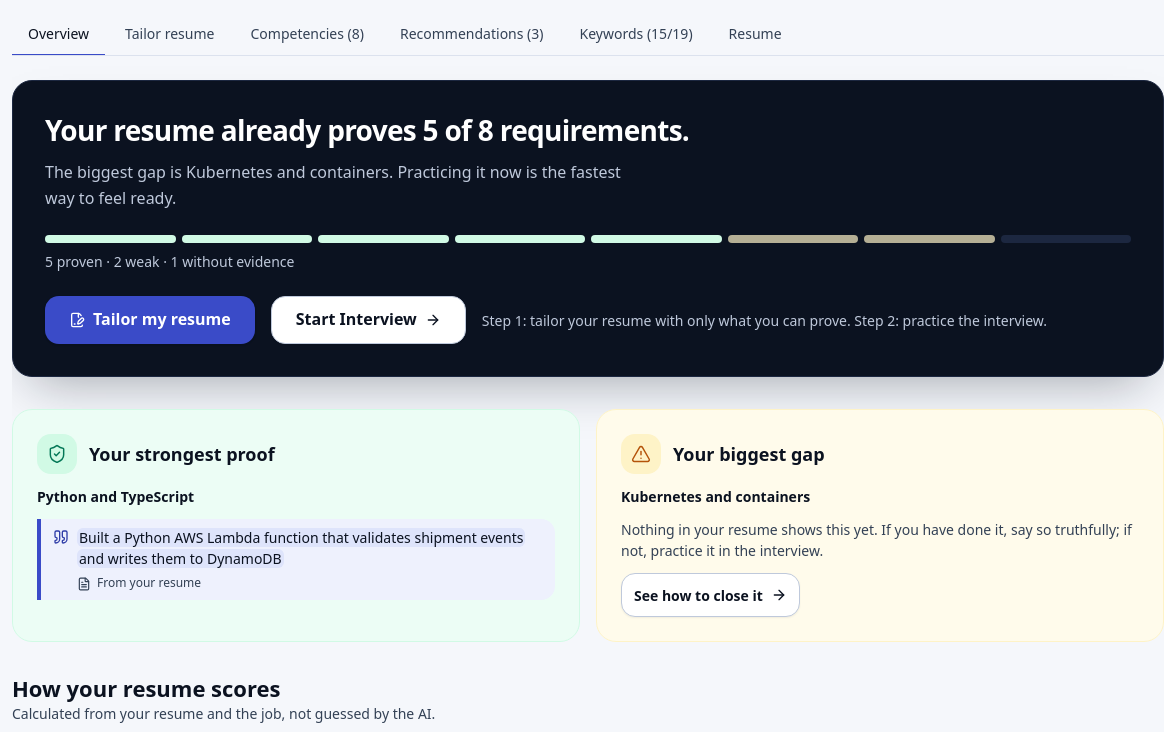
Scenario: Tailor resume tab (design §7.6) › is step 1 on the overview and opens the Tailor tab
This screenshot has width=1164, height=732.
Click the button "Tailor my resume". click: {"x": 150, "y": 320}
box: [45, 296, 255, 344]
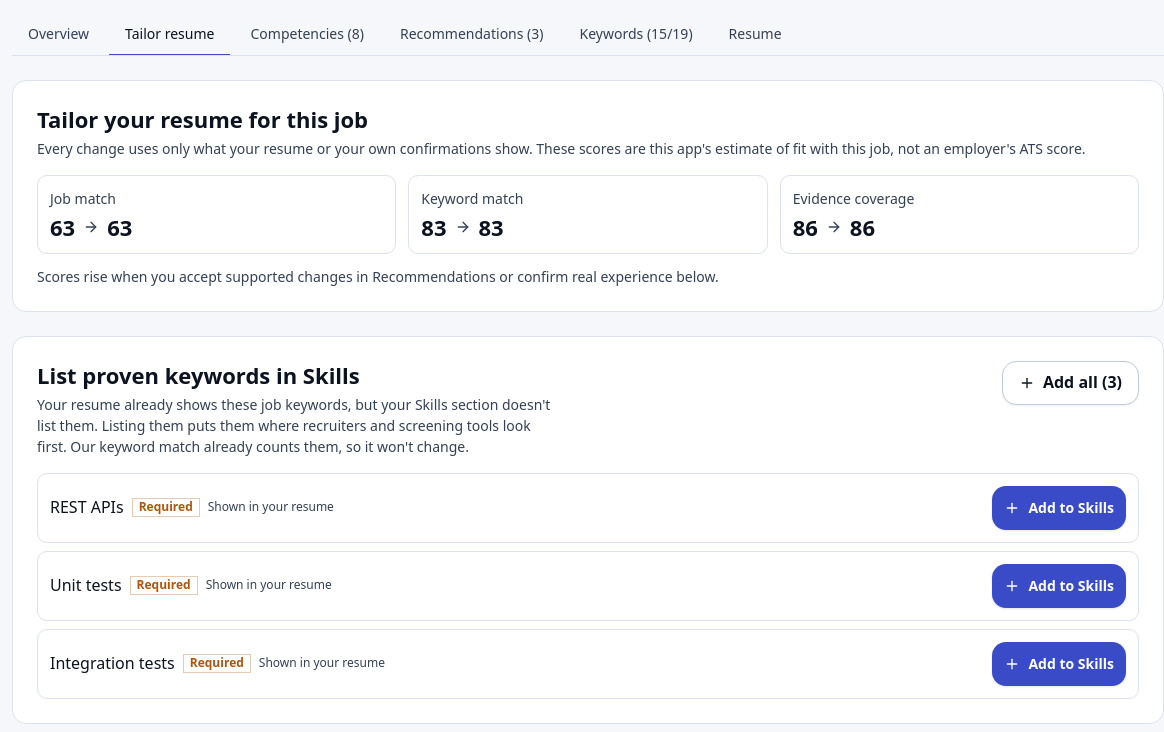
Expected: the heading "Tailor your resume for this job" is shown, [37, 104, 368, 134]
Expected: the text "not an employer's ATS score" is shown, [37, 139, 1086, 158]
